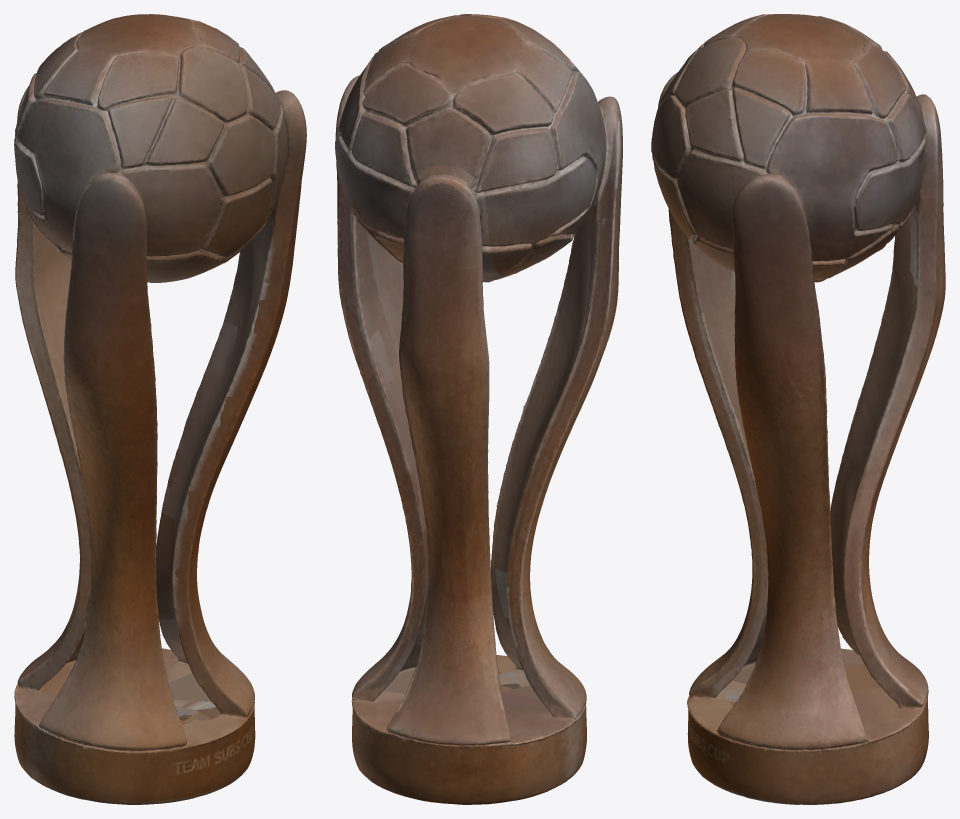
The model's file is copa_9.glb.
3 views of the same model, side by side, from view 1: azimuth 30°, elevation 25°; view 2: azimuth 150°, elevation 25°; view 3: azimuth 270°, elevation 25° (orthographic).
Parts seen in each view (by area): view 1: tmpem3nkk19obj; view 2: tmpem3nkk19obj; view 3: tmpem3nkk19obj.
Boxes of the visible parts, x1,y1,x2,y2 form: tmpem3nkk19obj: (14,14,306,804); tmpem3nkk19obj: (335,14,622,804); tmpem3nkk19obj: (651,14,945,804).
Bounding box in the file's own units: 0.3618 × 0.996 × 0.3629.
1 material, 1 textured.
